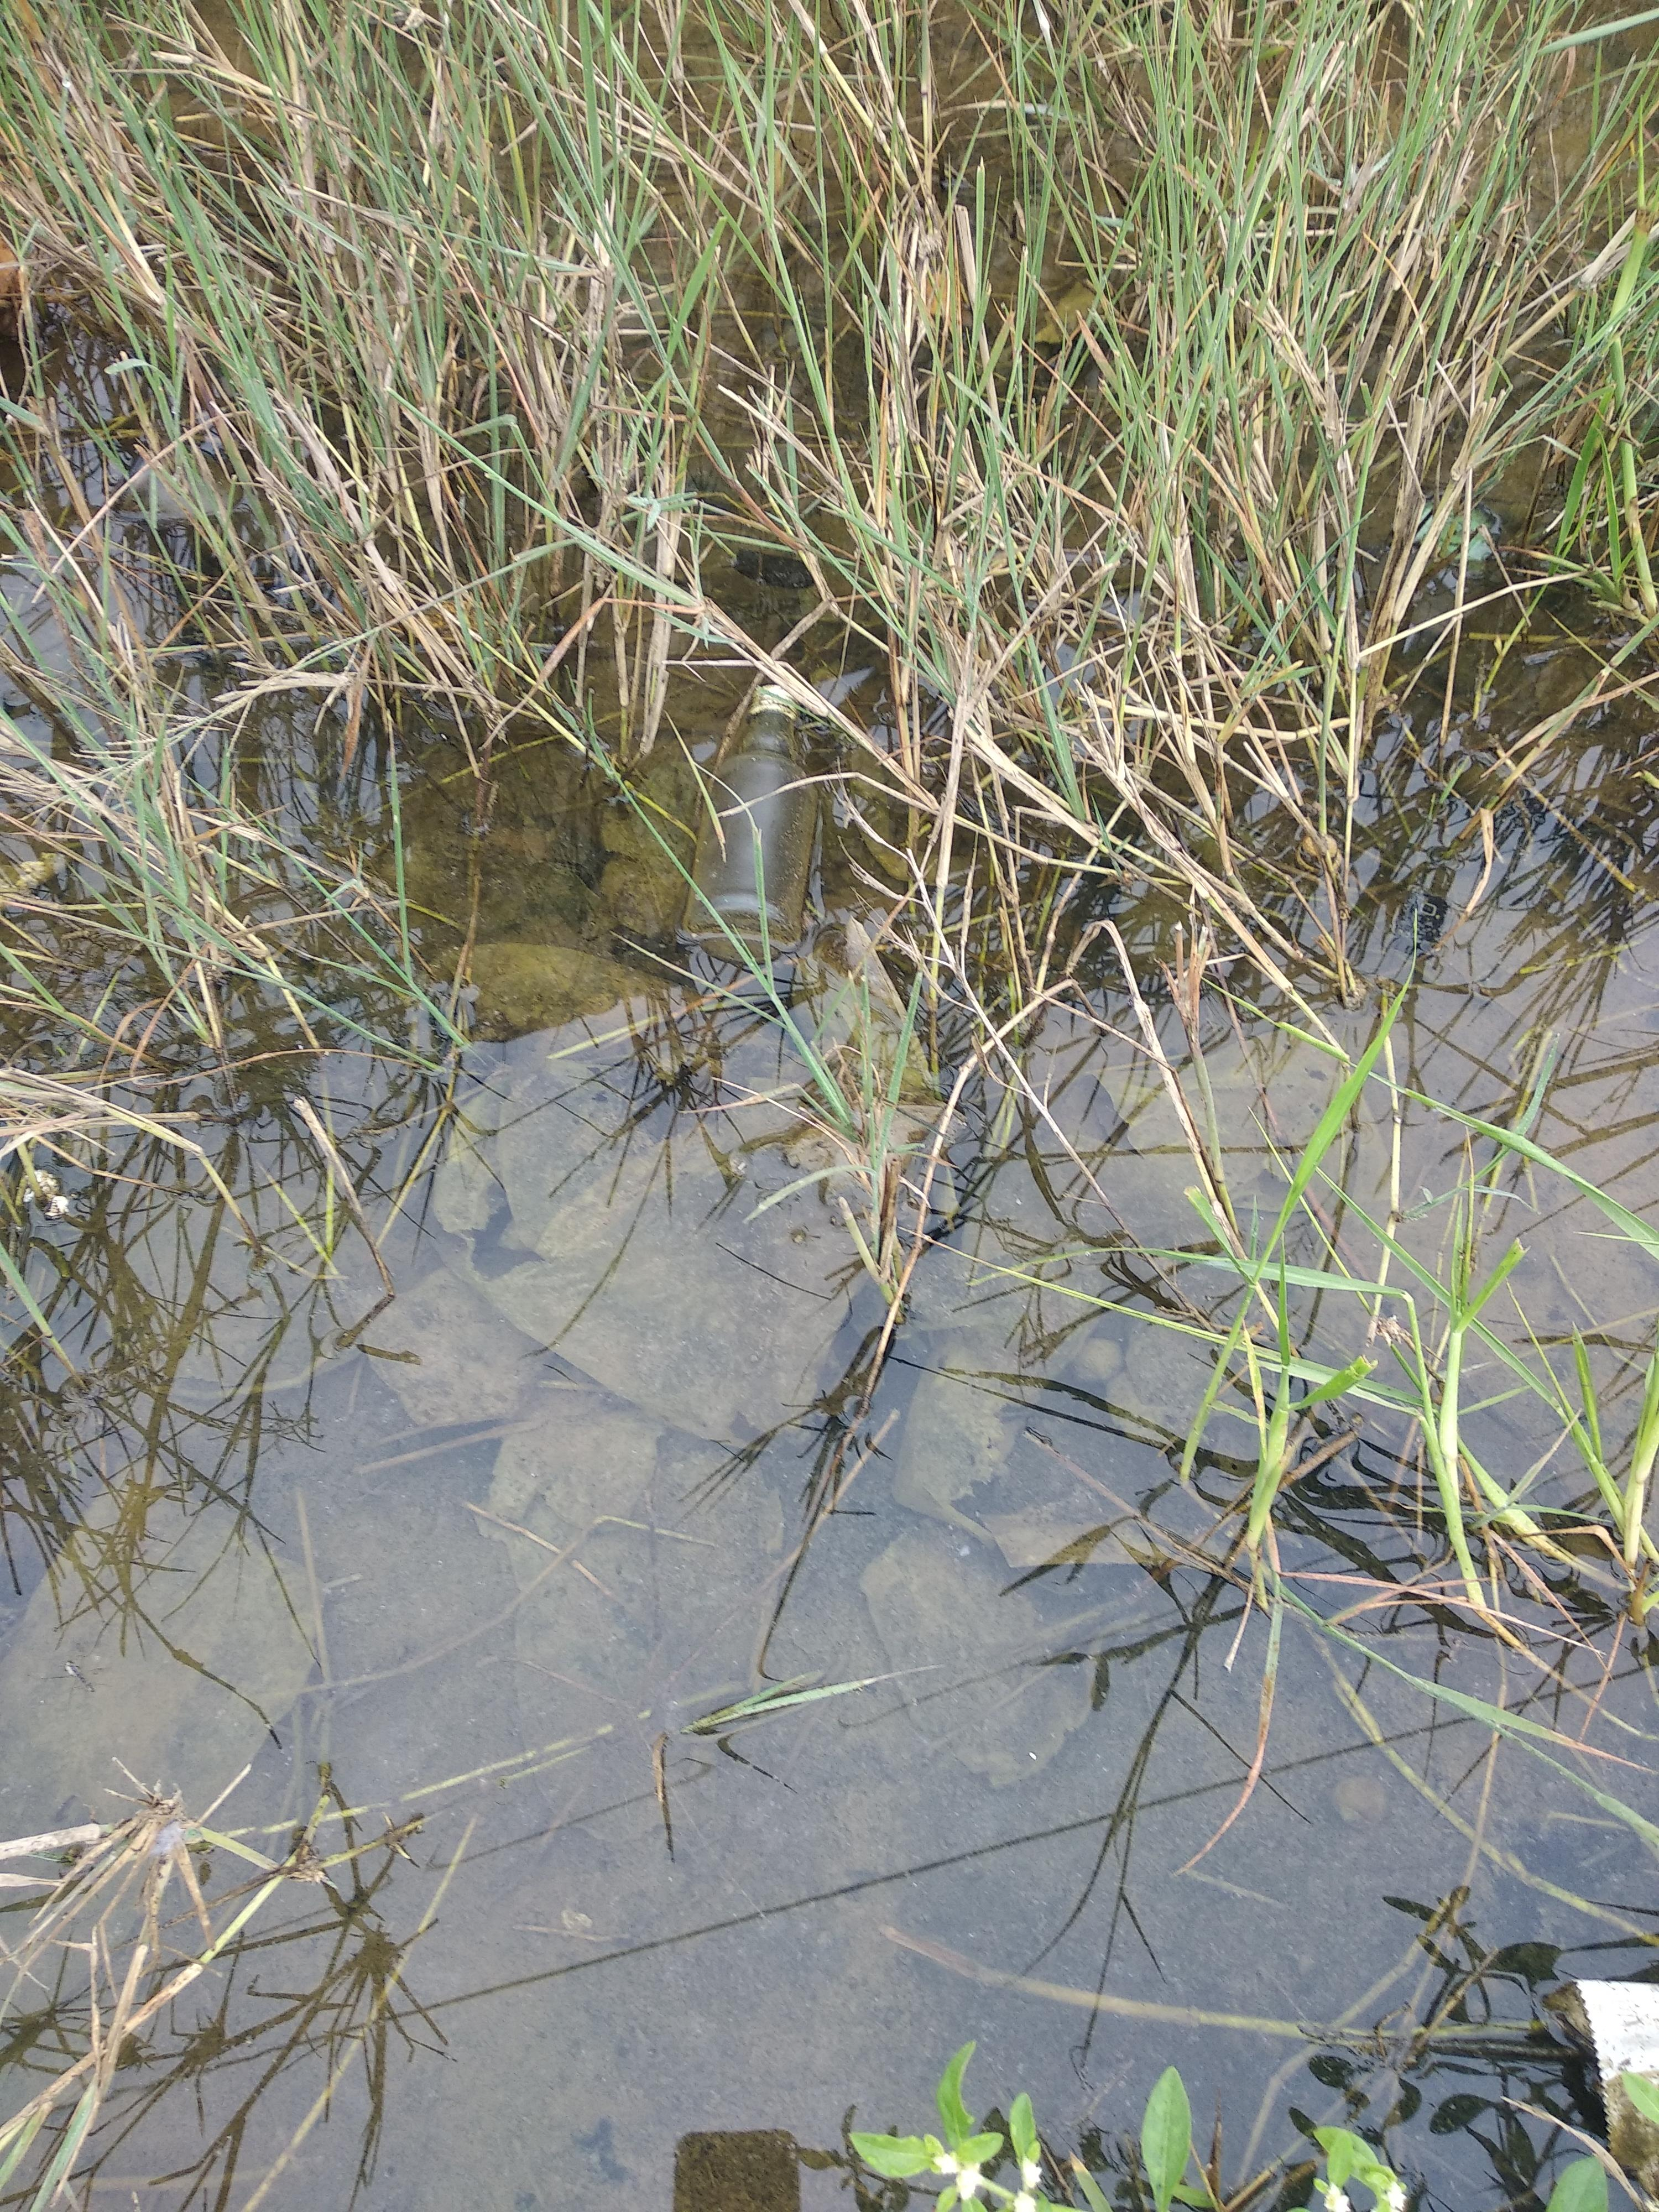trash: (640, 644, 913, 1017)
